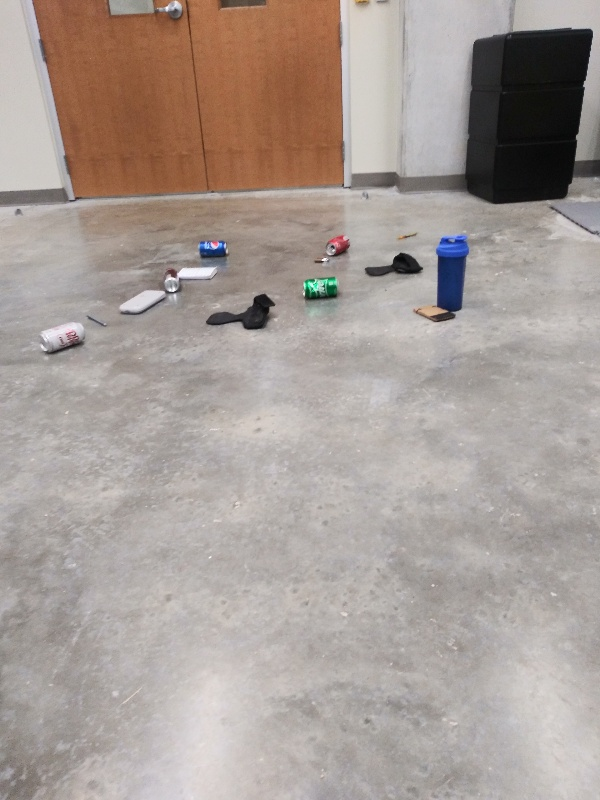can: (34, 318, 90, 356), (299, 273, 343, 301), (195, 237, 232, 260), (159, 266, 183, 297), (323, 232, 353, 256)
